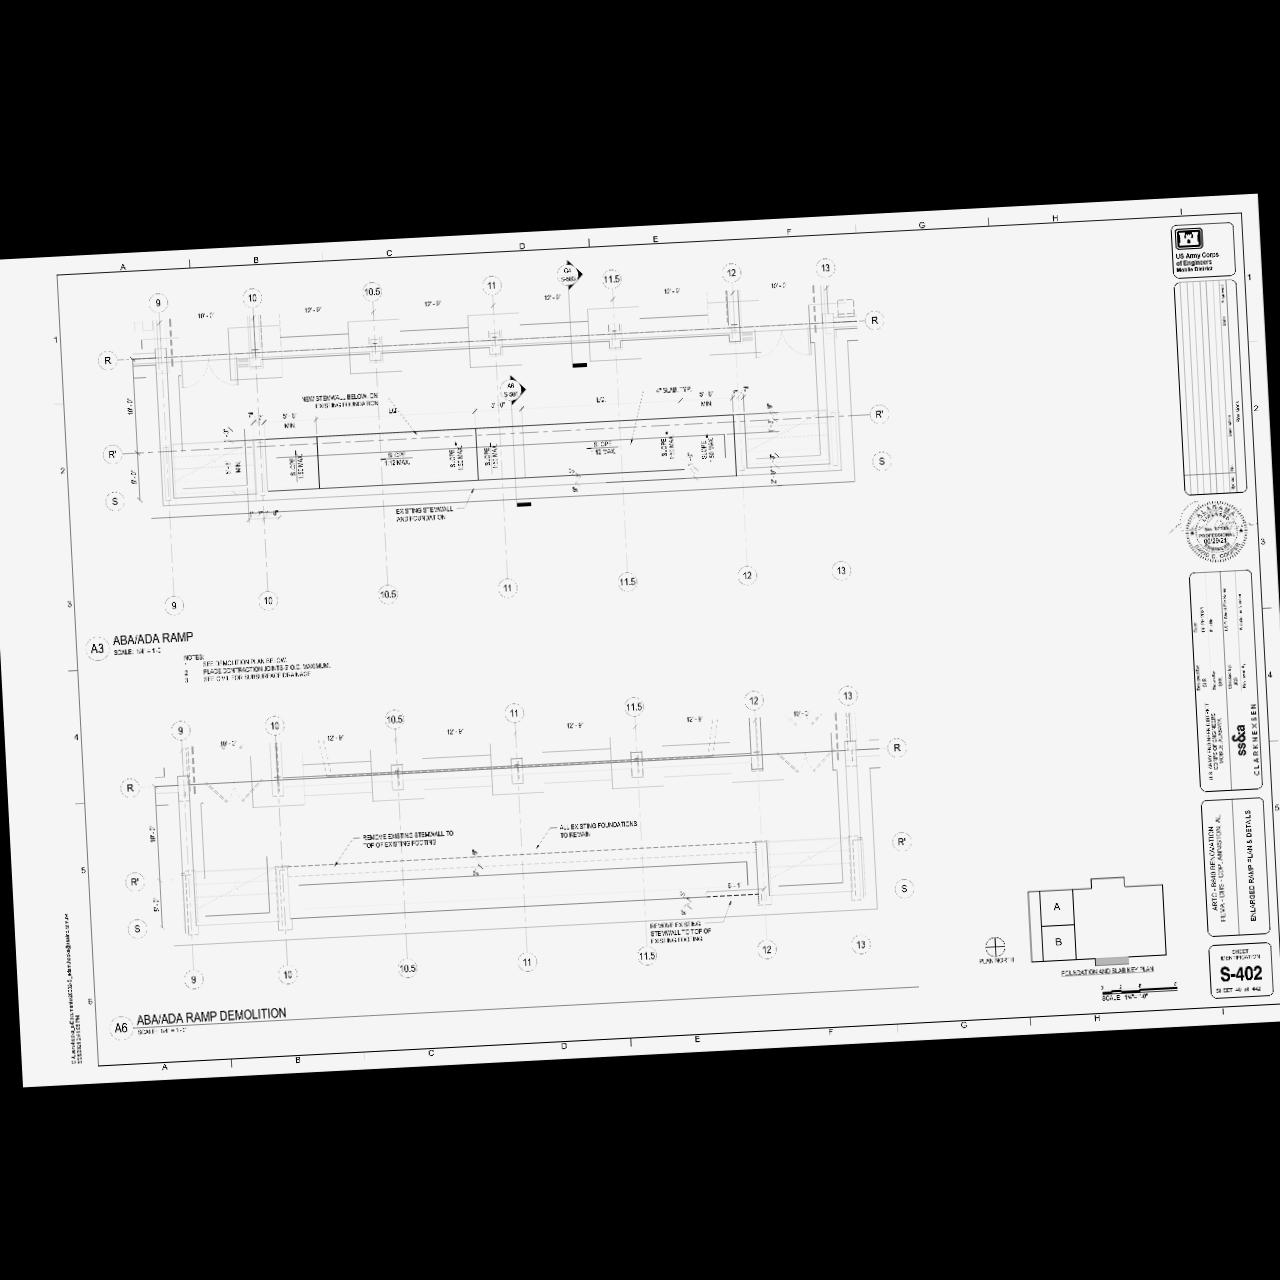elevation: (497, 372, 530, 410), (554, 256, 586, 293)
title: (82, 586, 904, 663), (104, 968, 924, 1042)
